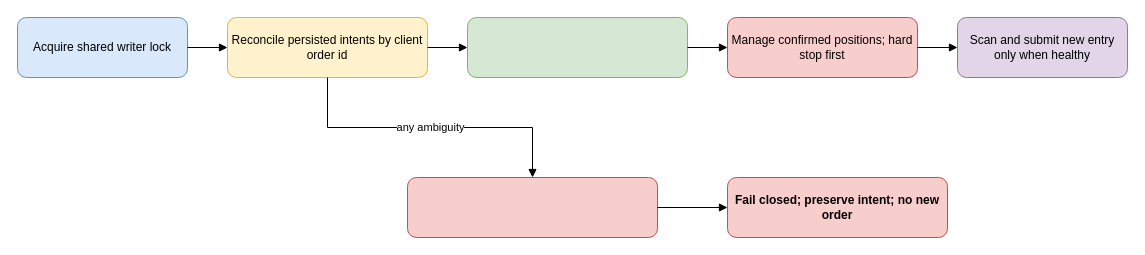
The diagram is 1145 pixels wide and 255 high, and some of its shapes have lost their labels. The shapes that lost their labels are listed below. From the top down, each one's box as (x1, y1, x2, y2) in pixels, then its label:
(466, 16, 688, 78): Atomically project cumulative fills to order + position + ledger
(406, 176, 658, 238): Lost lock / unknown order / account mismatch
